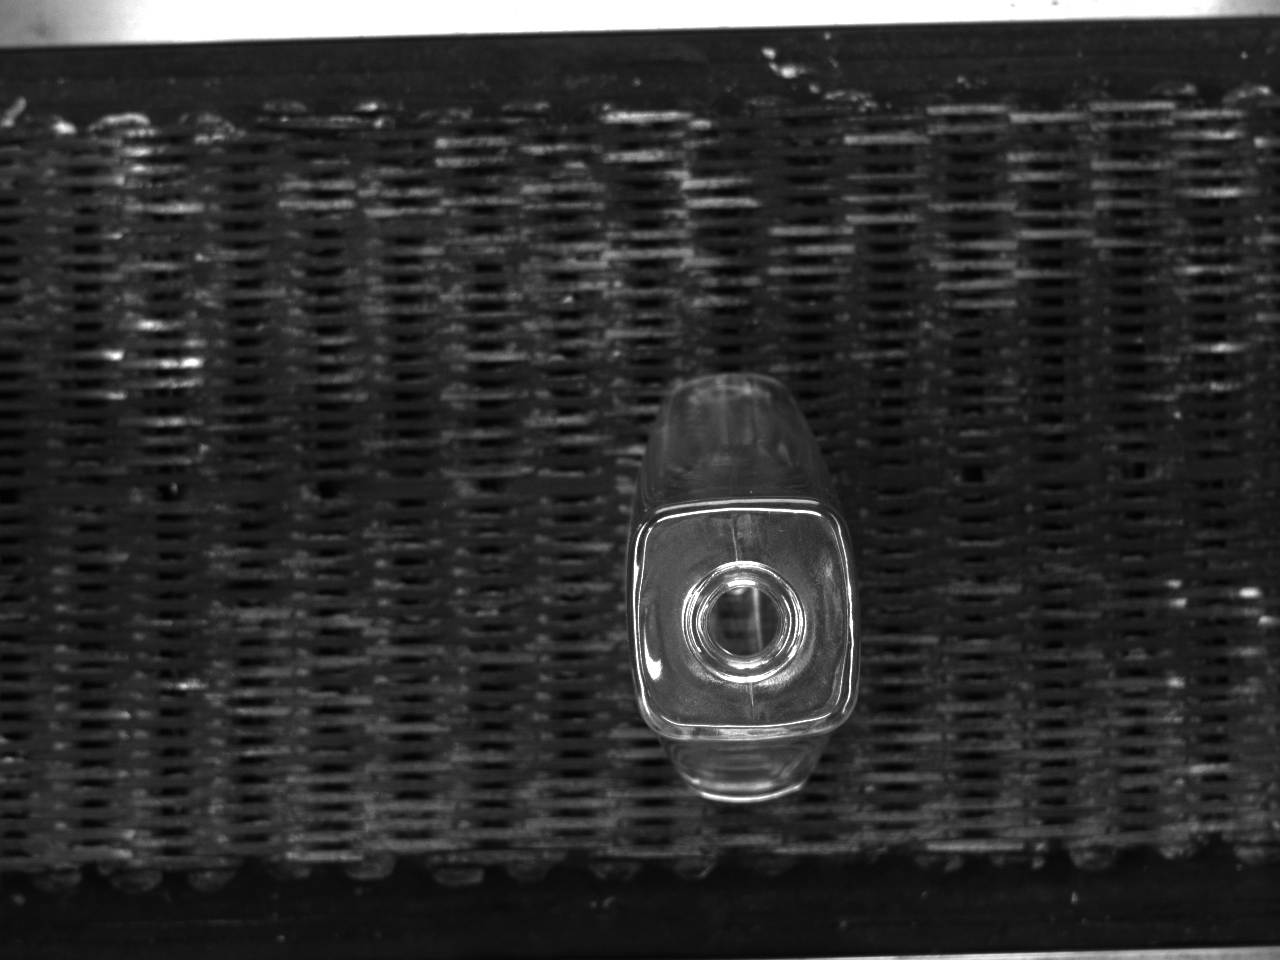bottleneck: (683, 560, 808, 684)
